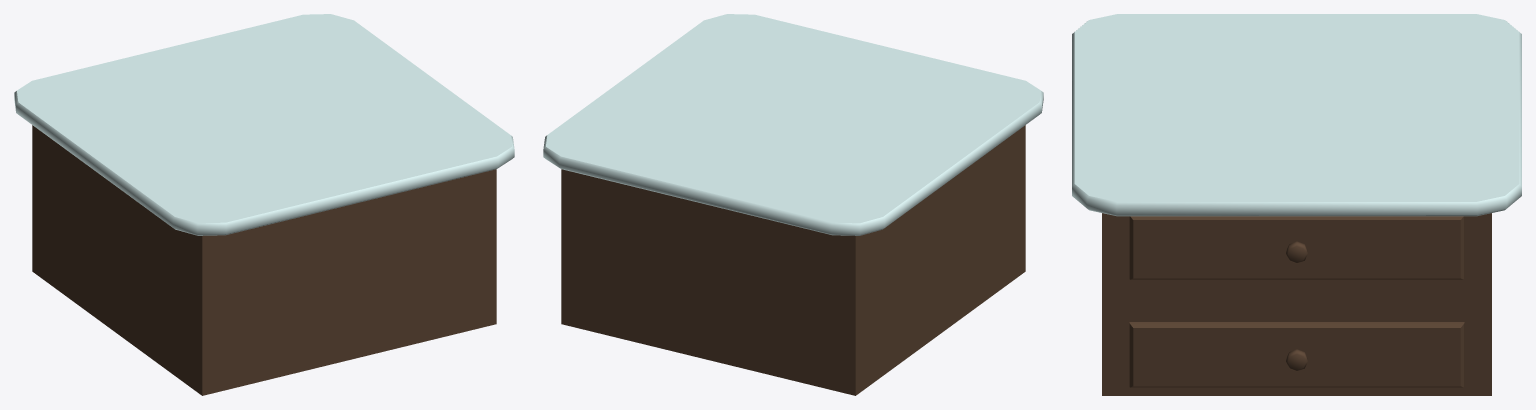
The model's file is Counter 1.fbx.
3 views of the same model, side by side, from view 1: azimuth 30°, elevation 25°; view 2: azimuth 150°, elevation 25°; view 3: azimuth 270°, elevation 25° (orthographic). The views are drawn at different scales.
Parts seen in each view (by area): view 1: Cube, Cube.001; view 2: Cube, Cube.001; view 3: Cube.001, Cube, Cube.003, Cube.002.
Part boxes in pixels (<box>): Cube: <box>32,125,496,395</box>; Cube.001: <box>14,14,514,235</box>; Cube: <box>561,125,1025,395</box>; Cube.001: <box>543,14,1043,235</box>; Cube.001: <box>1072,14,1521,216</box>; Cube: <box>1102,213,1491,395</box>; Cube.003: <box>1129,322,1464,387</box>; Cube.002: <box>1129,216,1464,279</box>.
Bounding box in the file's own units: 231 × 116 × 231.
